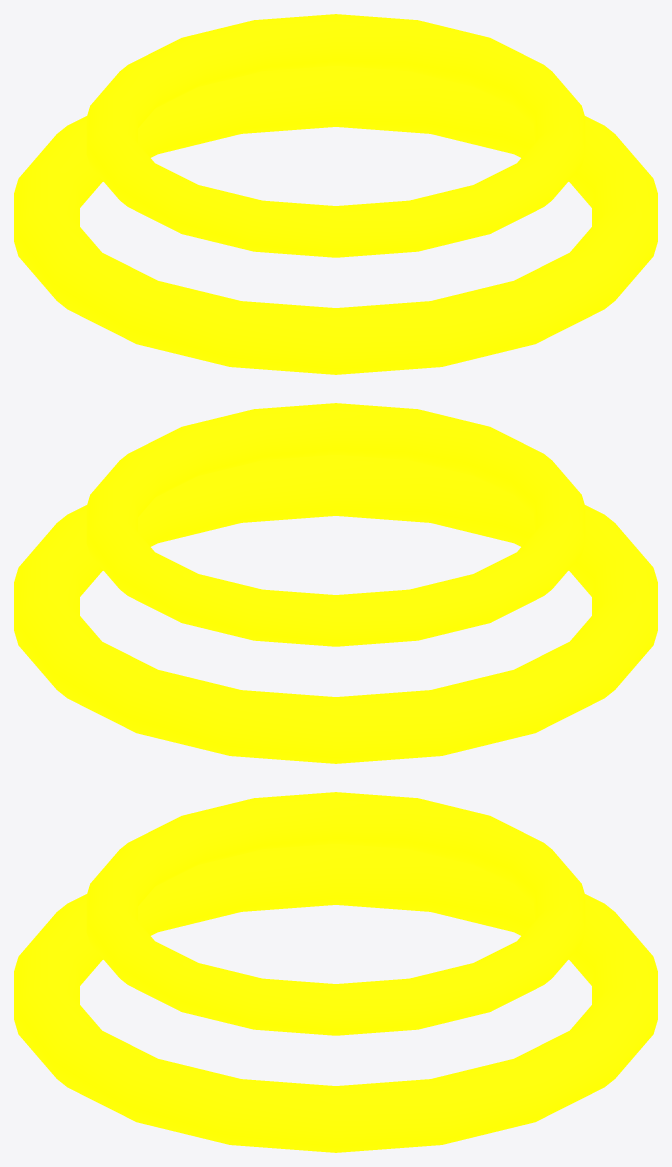
The model's file is UPGRADE01_ tur rotate base.fbx.
The picture shows the model from 3 angles, top to bottom: view 1: azimuth 30°, elevation 25°; view 2: azimuth 150°, elevation 25°; view 3: azimuth 270°, elevation 25°; orthographic projection.
Parts seen in each view (by area): view 1: Pivot base; view 2: Pivot base; view 3: Pivot base.
Boxes of the visible parts, <box> form: Pivot base: <box>14,14,657,374</box>; Pivot base: <box>14,403,657,763</box>; Pivot base: <box>14,792,657,1152</box>.
Bounding box in the file's own units: 1.56 × 0.3567 × 1.54.
